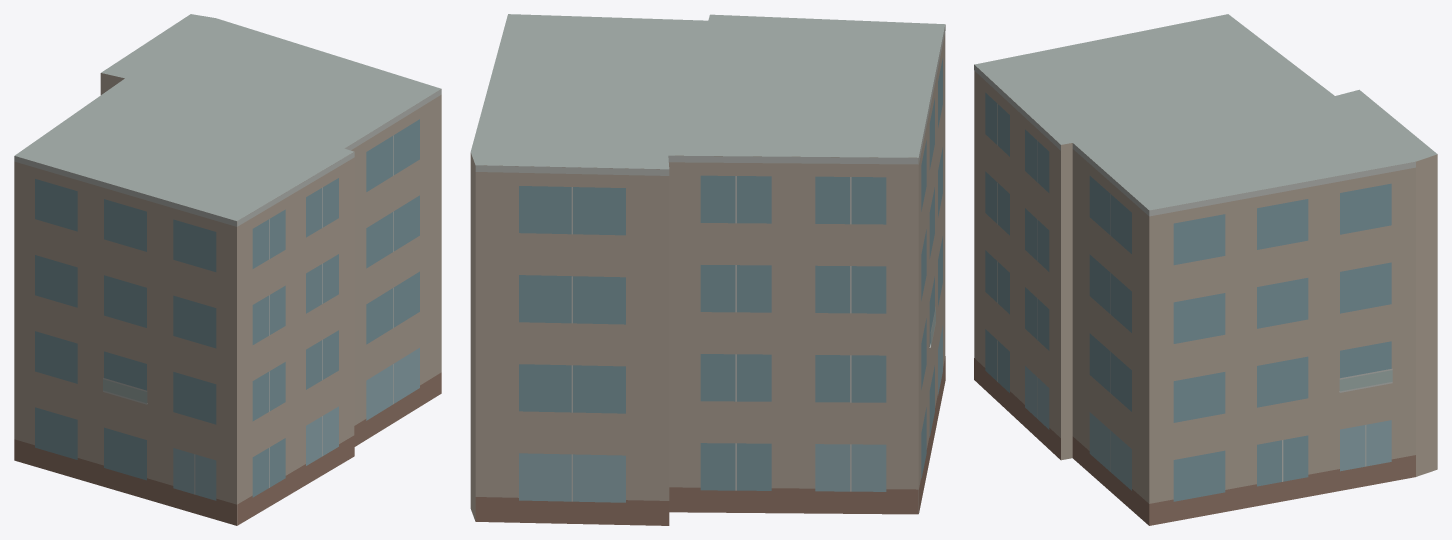
Rendered from survey-upis-32696536.glb.
The picture shows the model from 3 angles, left to right: view 1: azimuth 30°, elevation 25°; view 2: azimuth 150°, elevation 25°; view 3: azimuth 270°, elevation 25°; orthographic projection. The views are drawn at different scales.
Parts seen in each view (by area): view 1: survey-upis-32696536.tmp; view 2: survey-upis-32696536.tmp; view 3: survey-upis-32696536.tmp.
Boxes of the visible parts, x1=… form: survey-upis-32696536.tmp: x1=14, y1=14, x2=441, y2=525; survey-upis-32696536.tmp: x1=470, y1=14, x2=945, y2=525; survey-upis-32696536.tmp: x1=974, y1=14, x2=1437, y2=525.
Bounding box in the file's own units: 17.38 × 13 × 17.33.
